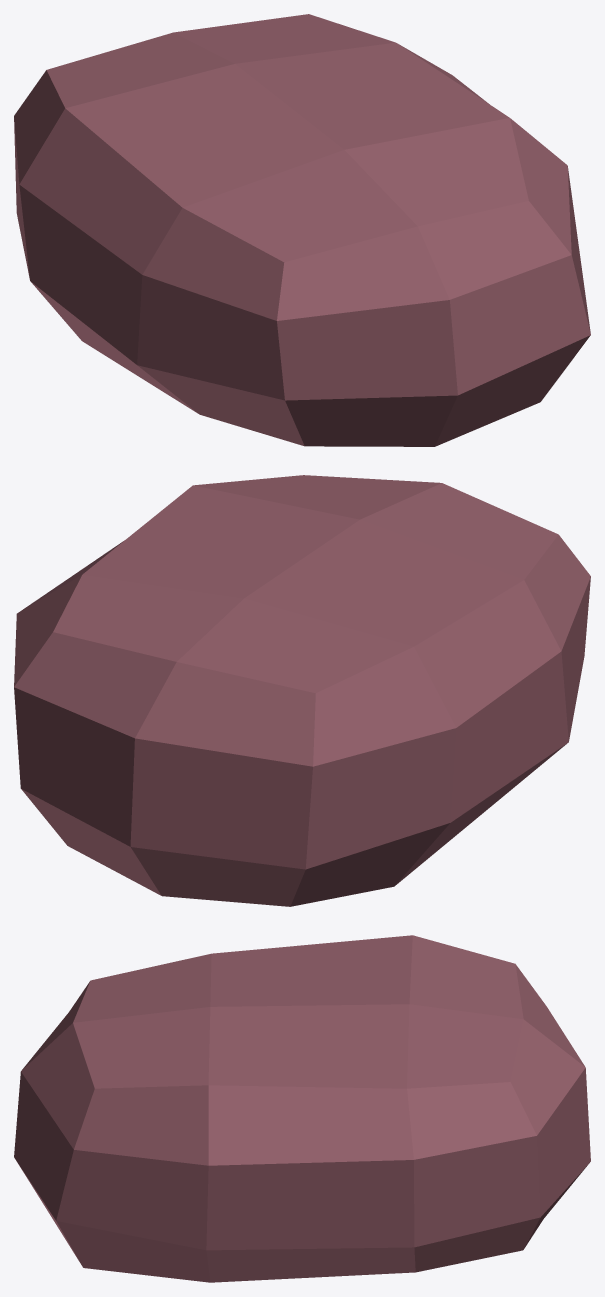
File: Rock_07_Wall.fbx
3 renders of one model, top to bottom at view 1: azimuth 30°, elevation 25°; view 2: azimuth 150°, elevation 25°; view 3: azimuth 270°, elevation 25°, orthographic. The views are drawn at different scales.
Parts seen in each view (by area): view 1: Rock_07_Wall; view 2: Rock_07_Wall; view 3: Rock_07_Wall.
Boxes of the visible parts, x1,y1,x2,y2 form: Rock_07_Wall: (14, 14, 590, 446); Rock_07_Wall: (14, 475, 590, 906); Rock_07_Wall: (14, 935, 590, 1282).
Bounding box in the file's own units: 49.95 × 28.6 × 64.5.
